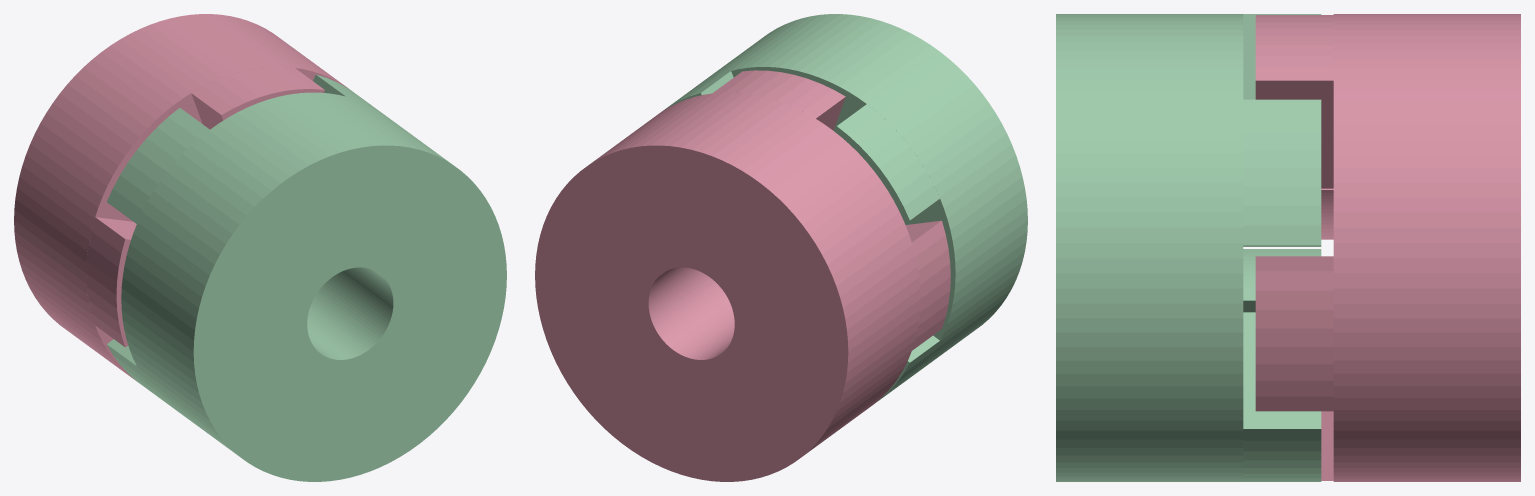
The model's file is dog_clutch_demo.glb.
3 renders of one model, left to right at view 1: azimuth 30°, elevation 25°; view 2: azimuth 150°, elevation 25°; view 3: azimuth 270°, elevation 25°, orthographic. The views are drawn at different scales.
Visible parts, largest first — view 1: hub_b, hub_a; view 2: hub_a, hub_b; view 3: hub_a, hub_b.
Part boxes in pixels (box(x1,y1,x2,y2)): hub_b: box(107, 74, 506, 481); hub_a: box(14, 14, 348, 381); hub_a: box(535, 70, 950, 481); hub_b: box(663, 14, 1027, 401); hub_a: box(1255, 14, 1520, 481); hub_b: box(1056, 14, 1321, 481).
Bounding box in the file's own units: 30 × 30 × 29.8.
